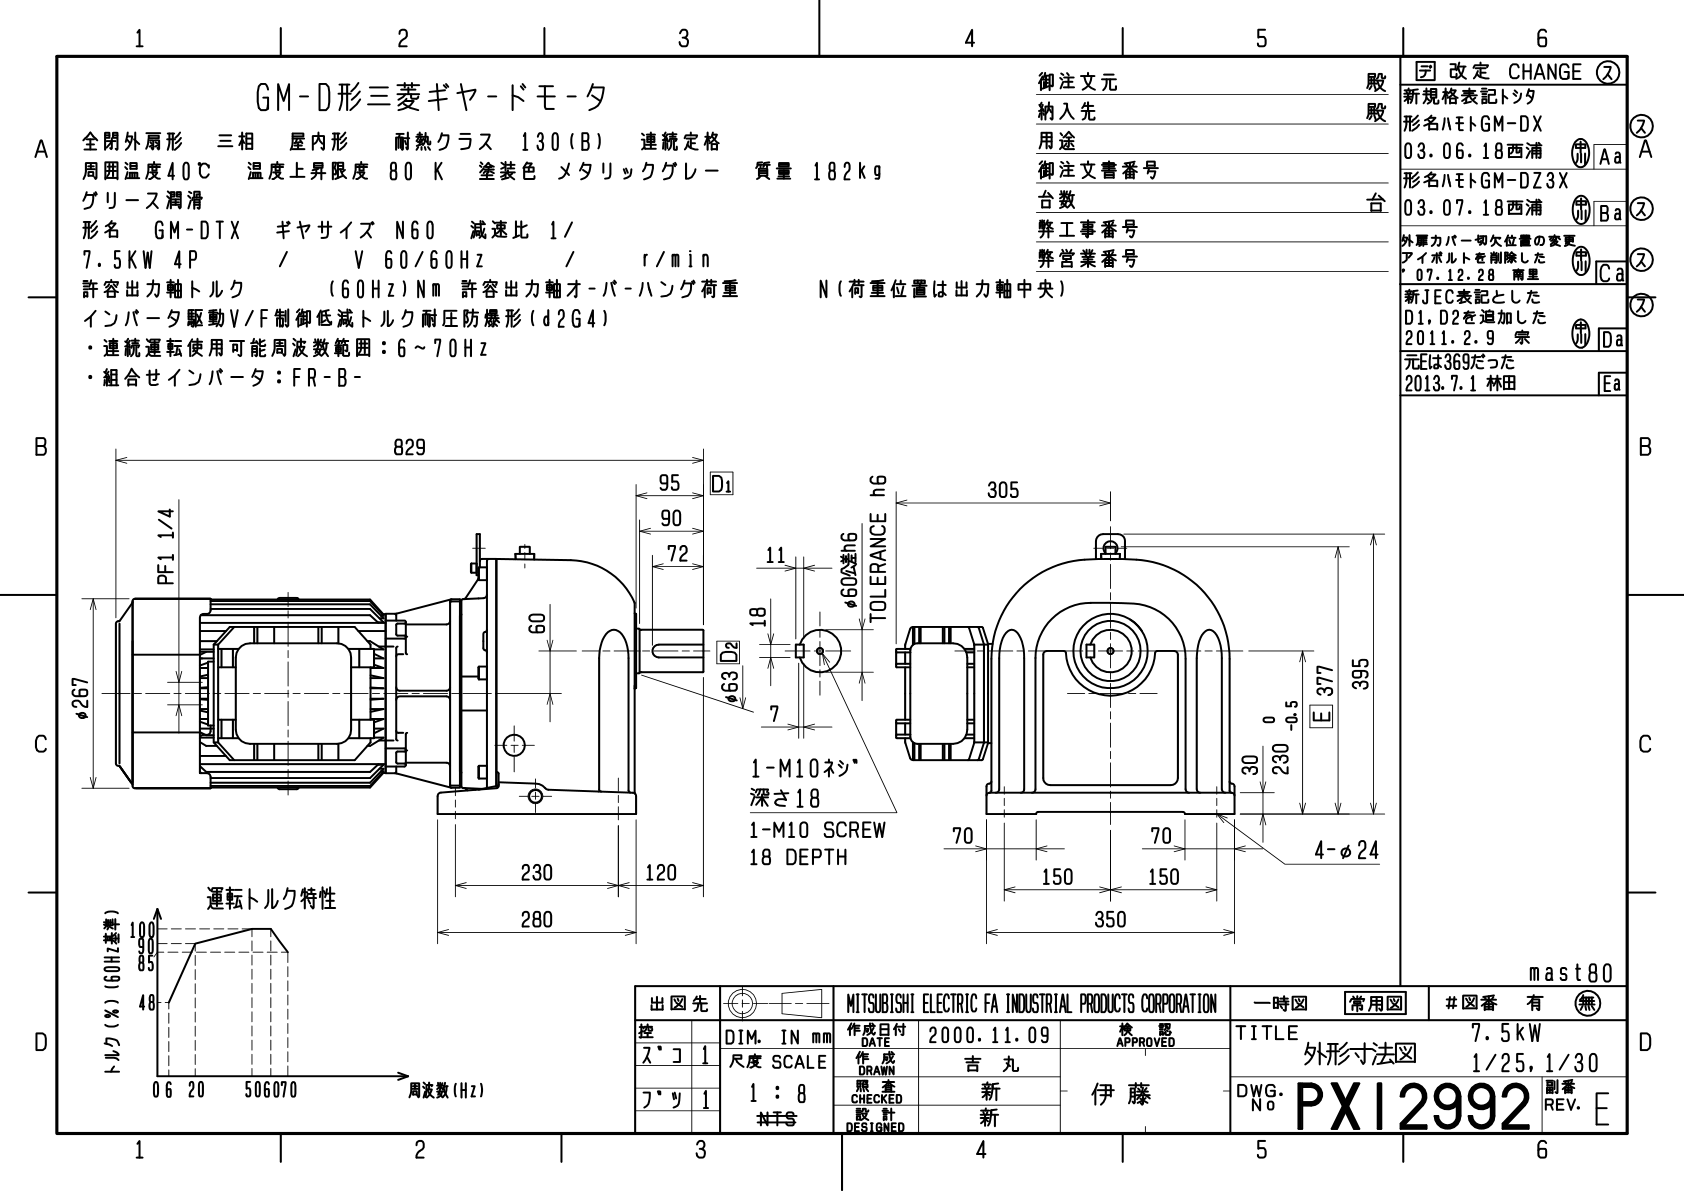GM_D_VF制御屋内_三相_脚: (67, 416, 1393, 963)
